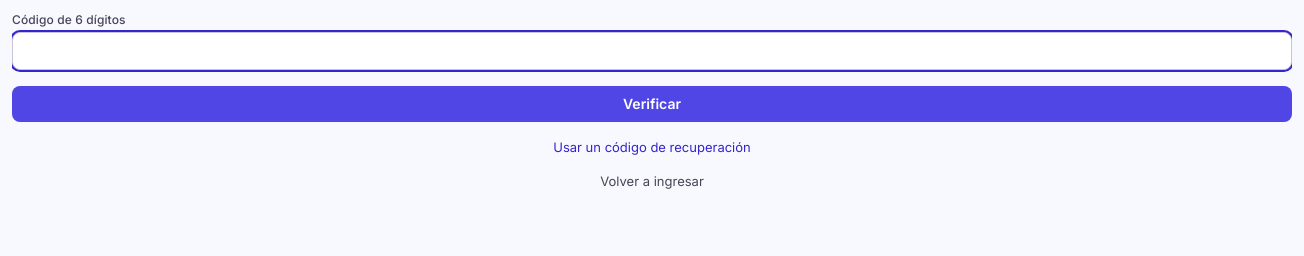
Test: MfaForm › announces a {"kind":"invalid"} failure
Type "123456" into the field labelled "Código de 6 dígitos" at (652, 51), box [12,32,1292,70]
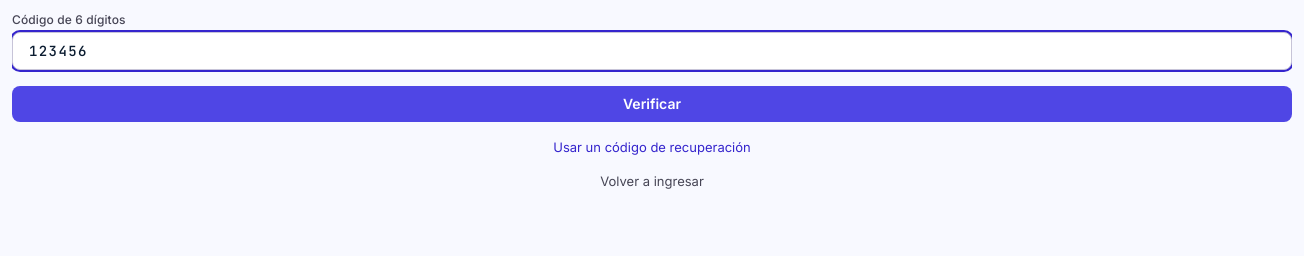
Click the button "Verificar" at (652, 104), box [12,86,1292,122]
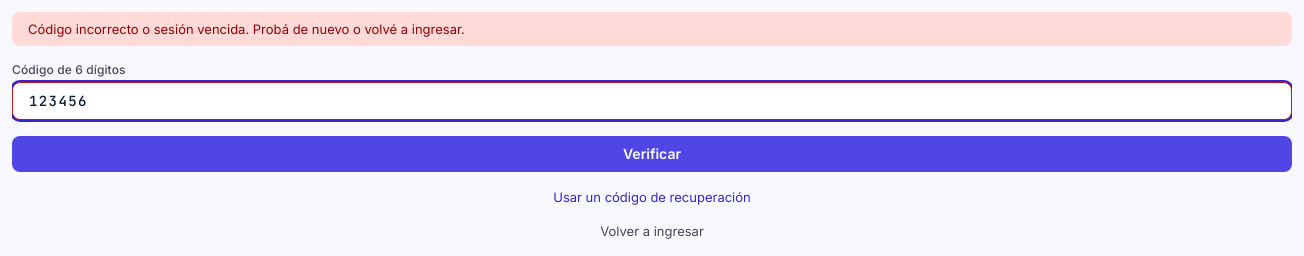
Now the message shows "Código incorrecto o sesión vencida", box [28,21,465,37]
